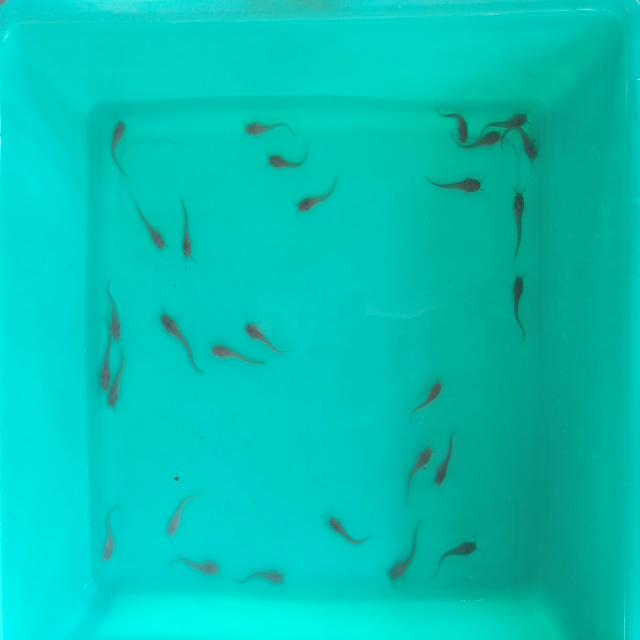lele: (390, 521, 428, 582), (130, 196, 170, 253), (430, 535, 478, 578), (241, 320, 290, 358), (323, 511, 371, 548), (407, 381, 446, 422), (161, 314, 194, 362), (210, 344, 268, 371), (300, 177, 342, 214), (434, 431, 461, 488), (165, 495, 197, 542), (424, 174, 484, 197), (108, 116, 129, 180), (100, 498, 120, 564), (173, 554, 223, 580), (503, 128, 540, 163), (438, 106, 475, 140), (409, 439, 433, 490), (512, 188, 528, 264), (105, 276, 123, 340), (110, 346, 128, 410), (511, 274, 526, 340), (241, 119, 295, 137), (233, 571, 284, 589), (180, 196, 194, 260), (484, 112, 532, 128), (99, 335, 112, 394), (466, 129, 500, 151), (266, 152, 307, 170)
